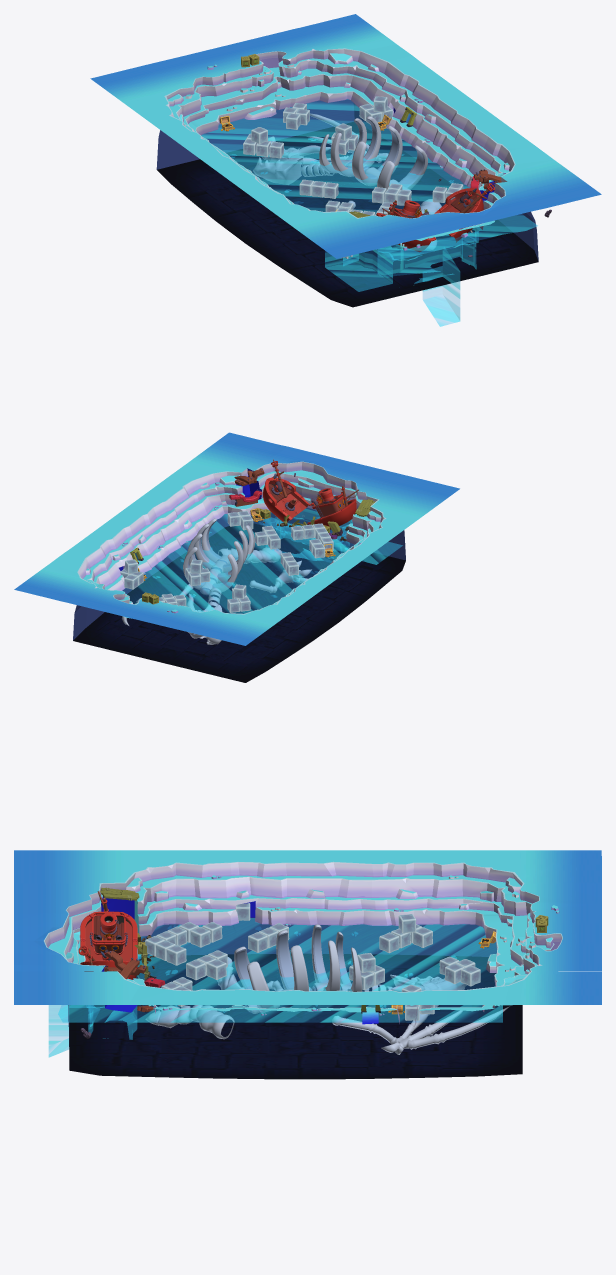
Rendered from iceberg.glb.
3 views of the same model, one above another, from view 1: azimuth 30°, elevation 25°; view 2: azimuth 150°, elevation 25°; view 3: azimuth 270°, elevation 25° (orthographic). The views are drawn at different scales.
Parts seen in each view (by area): view 1: sm_ib_icecliff, sm_ib_frozendeep, sm_ib_icefloor, sm_ib_shipcrash, sm_ib_seamonster; view 2: sm_ib_icecliff, sm_ib_frozendeep, sm_ib_icefloor, sm_ib_shipcrash, sm_ib_seamonster; view 3: sm_ib_icecliff, sm_ib_frozendeep, sm_ib_icefloor, sm_ib_shipcrash, sm_ib_seamonster.
Part boxes in pixels (x1,y1,x2,y2): sm_ib_icecliff: (90, 14, 601, 258); sm_ib_frozendeep: (156, 99, 538, 307); sm_ib_icefloor: (201, 99, 537, 326); sm_ib_shipcrash: (319, 116, 551, 257); sm_ib_seamonster: (253, 113, 441, 249); sm_ib_icecliff: (14, 432, 459, 645); sm_ib_frozendeep: (73, 507, 405, 682); sm_ib_icefloor: (123, 508, 402, 613); sm_ib_shipcrash: (183, 459, 358, 595); sm_ib_seamonster: (122, 547, 311, 644); sm_ib_icecliff: (14, 850, 601, 1024); sm_ib_frozendeep: (68, 917, 522, 1079); sm_ib_icefloor: (48, 918, 502, 1057); sm_ib_shipcrash: (69, 891, 362, 1038); sm_ib_seamonster: (145, 957, 509, 1054).
Size of the model in its own units: 67.11 by 34.08 by 56.41.
Materials: 9 (9 with a texture image).
